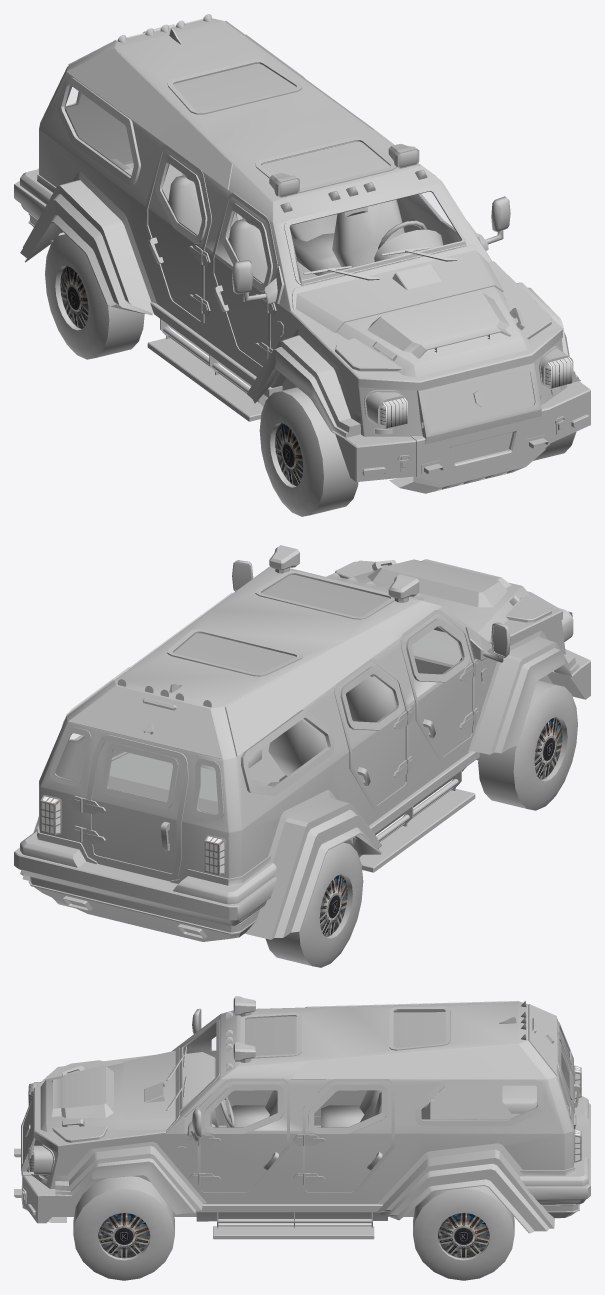
The model's file is body.FBX.
The picture shows the model from 3 angles, top to bottom: view 1: azimuth 30°, elevation 25°; view 2: azimuth 150°, elevation 25°; view 3: azimuth 270°, elevation 25°; orthographic projection. The views are drawn at different scales.
Parts seen in each view (by area): view 1: SUV2_LOD0, FR_Wheel_LOD0, RR_Wheel_LOD0; view 2: SUV2_LOD0, FR_Wheel_LOD0, RR_Wheel_LOD0; view 3: SUV2_LOD0, FL_Wheel_LOD0, RL_Wheel_LOD0.
Part boxes in pixels (x1=…): SUV2_LOD0: x1=14, y1=14, x2=590, y2=493; FR_Wheel_LOD0: x1=259, y1=387, x2=358, y2=516; RR_Wheel_LOD0: x1=45, y1=234, x2=144, y2=359; SUV2_LOD0: x1=14, y1=545, x2=590, y2=941; FR_Wheel_LOD0: x1=478, y1=680, x2=577, y2=810; RR_Wheel_LOD0: x1=265, y1=842, x2=363, y2=967; SUV2_LOD0: x1=14, y1=996, x2=590, y2=1239; FL_Wheel_LOD0: x1=73, y1=1176, x2=174, y2=1280; RL_Wheel_LOD0: x1=413, y1=1186, x2=514, y2=1280.
Size of what is drawn, in the model's own units: 343 by 322 by 784.
